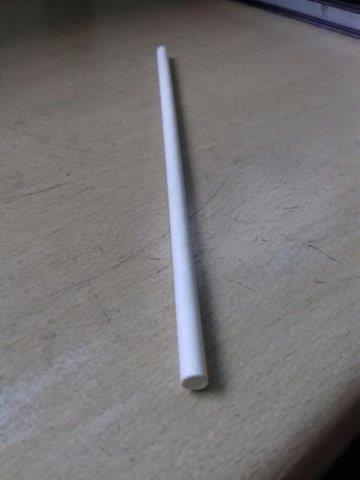sedotan: (157, 45, 209, 384)
